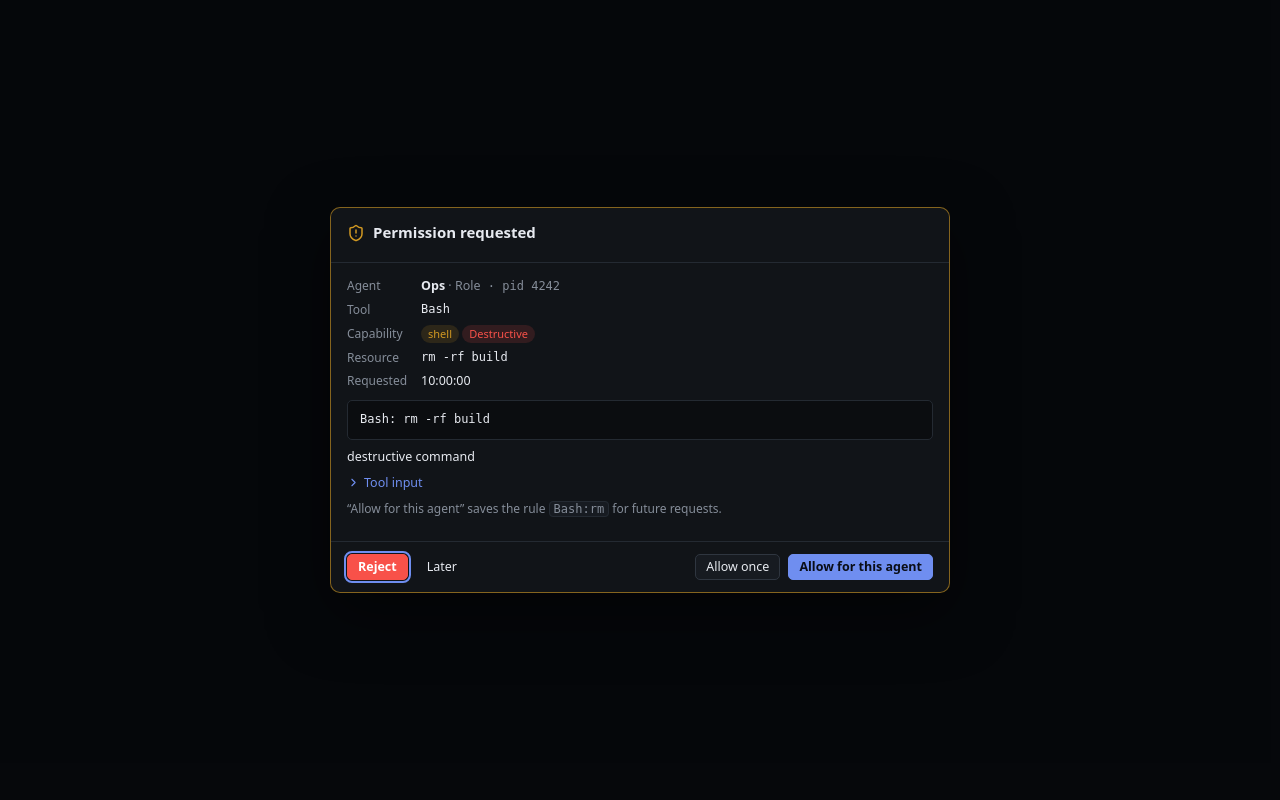
Scenario: PermissionModal › says when the state cannot be checked
The image size is (1280, 800).
Click the button "Reject": click(377, 567) [347,554,408,580]
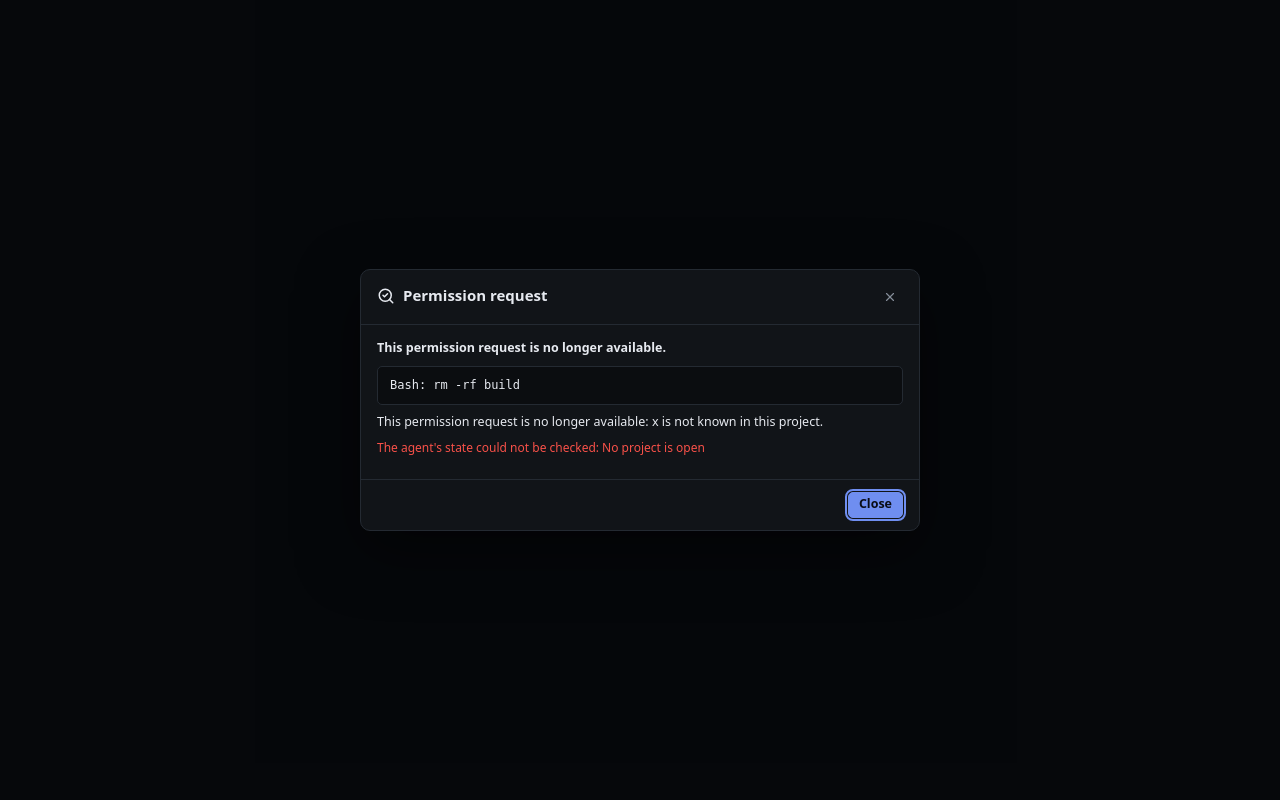
Check: the text "The agent's state could not be checked: No project is open" is shown, box [377,439,705,456]
